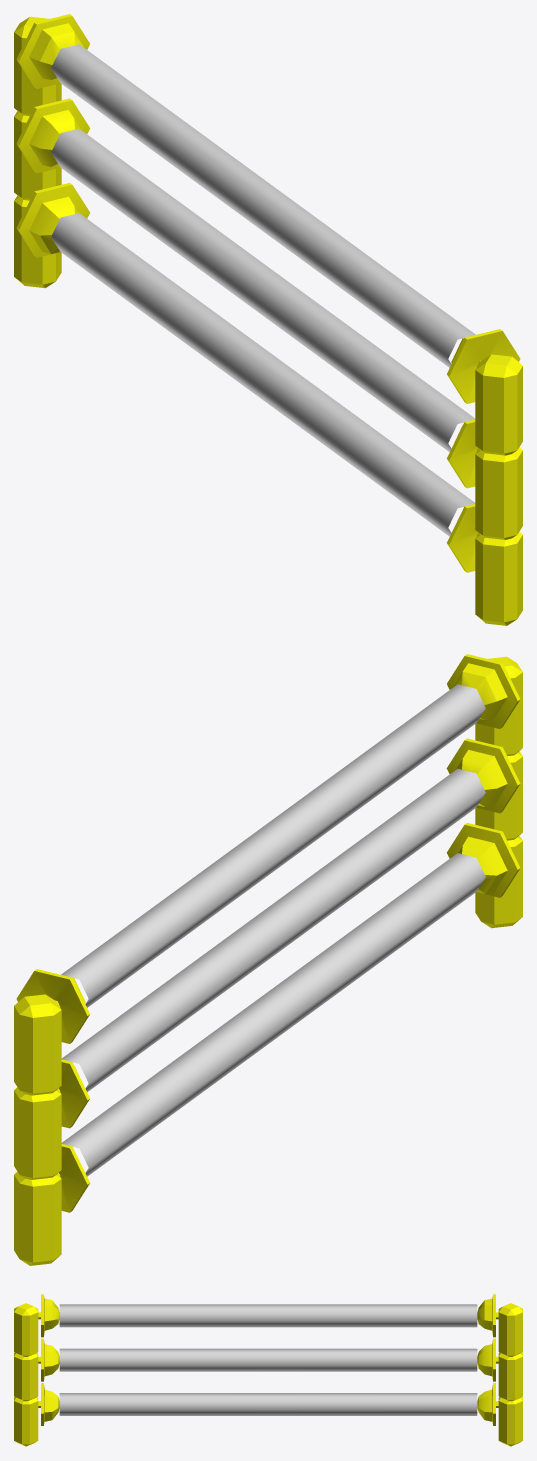
The picture shows the model from 3 angles, top to bottom: view 1: azimuth 30°, elevation 25°; view 2: azimuth 150°, elevation 25°; view 3: azimuth 270°, elevation 25°; orthographic projection. The views are drawn at different scales.
Visible parts, largest first — view 1: Electro_vfx_mesh, Electro_wall1, Electro_wall2; view 2: Electro_vfx_mesh, Electro_wall2, Electro_wall1; view 3: Electro_vfx_mesh, Electro_wall1, Electro_wall2.
Boxes of the visible parts, <box> form: Electro_vfx_mesh: <box>51,44,475,536</box>; Electro_wall1: <box>447,329,522,625</box>; Electro_wall2: <box>14,14,90,288</box>; Electro_vfx_mesh: <box>61,684,485,1176</box>; Electro_wall2: <box>14,969,89,1265</box>; Electro_wall1: <box>446,654,522,928</box>; Electro_vfx_mesh: <box>59,1304,477,1415</box>; Electro_wall1: <box>14,1294,59,1446</box>; Electro_wall2: <box>477,1294,522,1446</box>.
Size of the model in its own units: 0.00374 by 0.0138 by 0.0441.
Materials: 2 (1 with a texture image).
